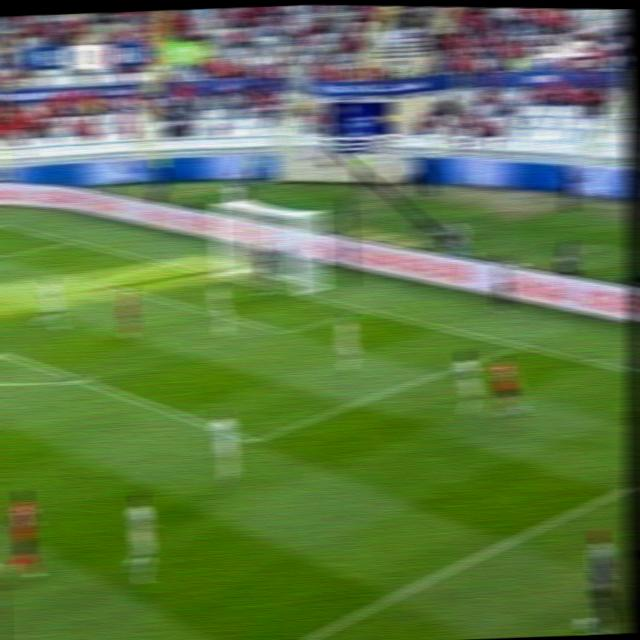bigarea_bottom_inner: (237, 428, 269, 456)
bigarea_bottom_outter: (504, 332, 538, 360)
bigarea_top_outter: (60, 235, 84, 250)
bottom_arc_area_intersection: (67, 371, 94, 392)
smallarea_bottom_inner: (278, 324, 296, 339)
smallarea_bottom_outter: (349, 300, 376, 321)
smallarea_top_inner: (85, 271, 109, 294)
smallarea_top_outter: (152, 256, 178, 273)
